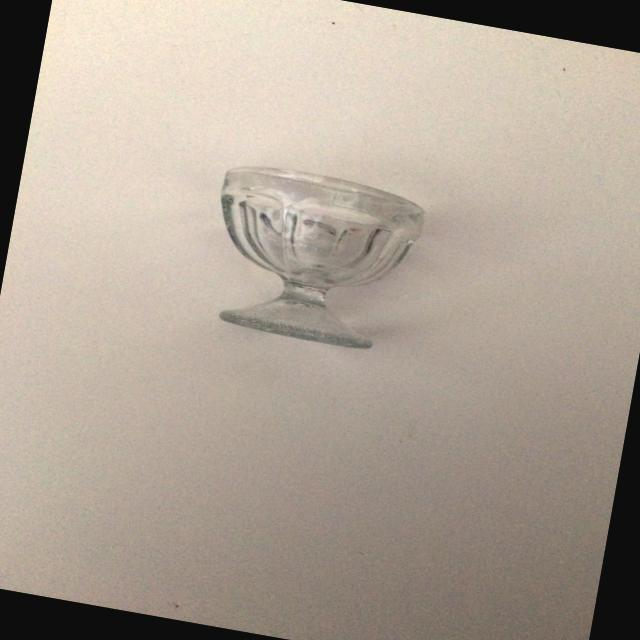Glass: (174, 146, 458, 370)
